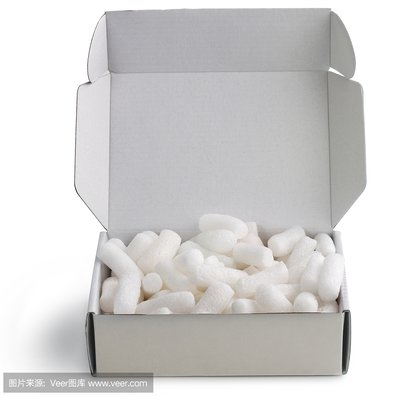5/可回收垃圾/泡沫: (73, 8, 367, 377)
